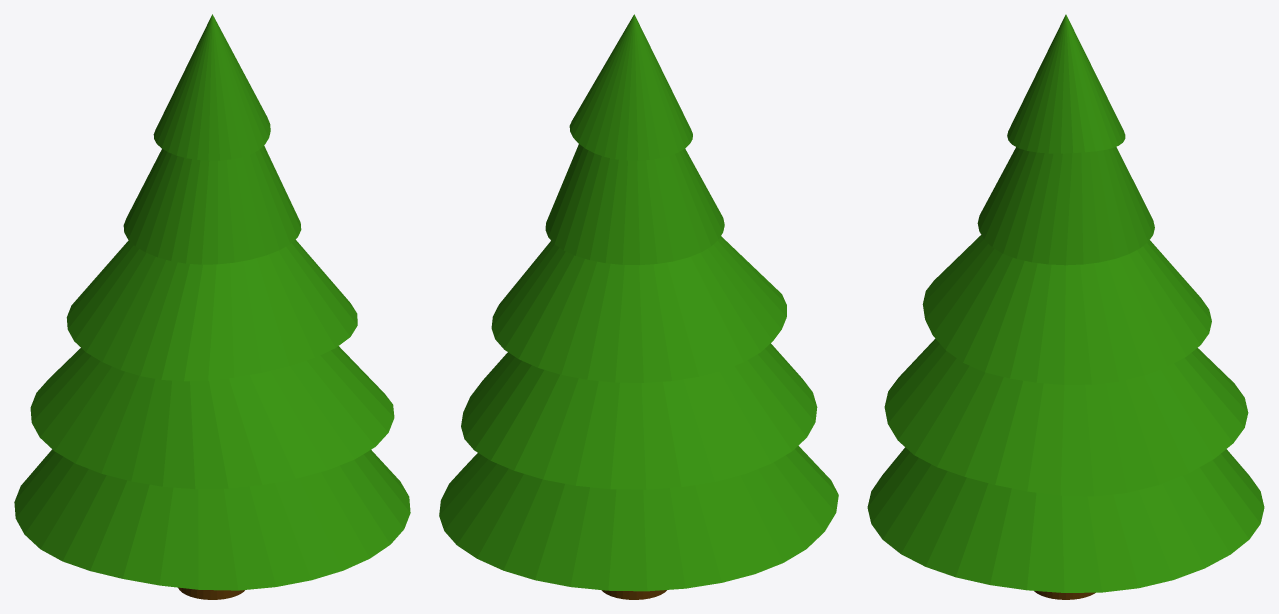
The model's file is arbol1.fbx.
3 views of the same model, side by side, from view 1: azimuth 30°, elevation 25°; view 2: azimuth 150°, elevation 25°; view 3: azimuth 270°, elevation 25° (orthographic).
Visible parts, largest first — view 1: Cylinder; view 2: Cylinder; view 3: Cylinder.
Boxes of the visible parts, box(x1,y1,x2,y2) form: Cylinder: box(14, 14, 410, 599); Cylinder: box(439, 14, 838, 599); Cylinder: box(867, 14, 1264, 599).
Size of the model in its own units: 938 by 1492 by 940.
